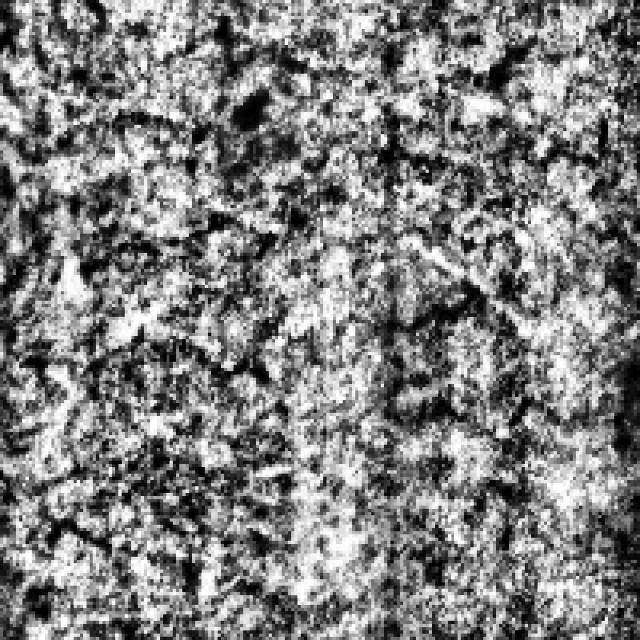Pitted_Surface: (29, 316, 269, 598), (356, 282, 630, 454)
